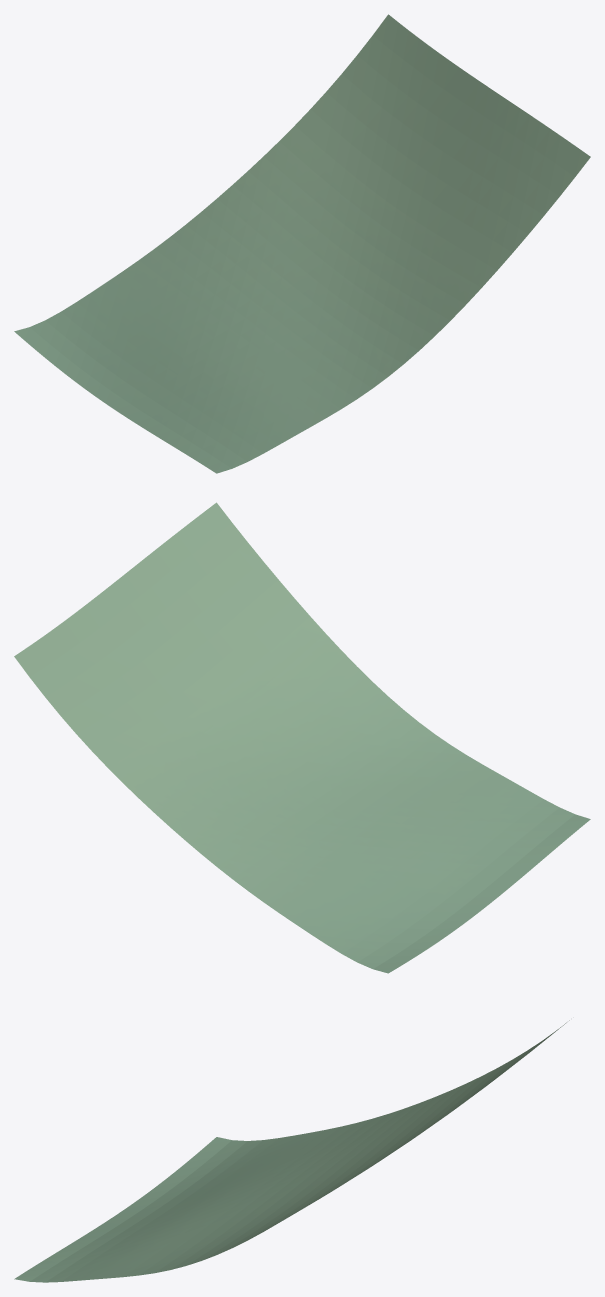
File: terreno_1_0.glb
3 renders of one model, top to bottom at view 1: azimuth 30°, elevation 25°; view 2: azimuth 150°, elevation 25°; view 3: azimuth 330°, elevation 25°, orthographic.
Visible parts, largest first — view 1: terreno_1_0; view 2: terreno_1_0; view 3: terreno_1_0.
Boxes of the visible parts, box(x1,y1,x2,y2) form: terreno_1_0: box(14, 14, 590, 473); terreno_1_0: box(14, 502, 590, 973); terreno_1_0: box(14, 1020, 569, 1282).
Bounding box in the file's own units: 112 × 67.79 × 105.
